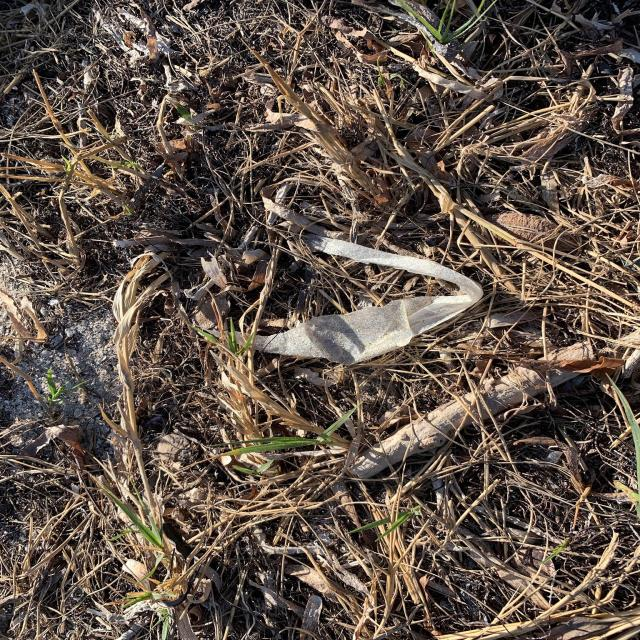litter: (235, 236, 484, 366)
